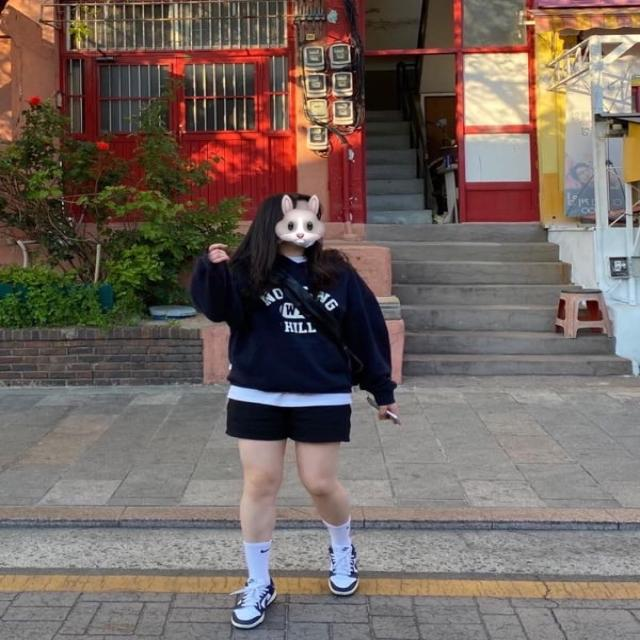hoodies: (188, 244, 400, 406)
shortpants: (221, 393, 353, 445)
